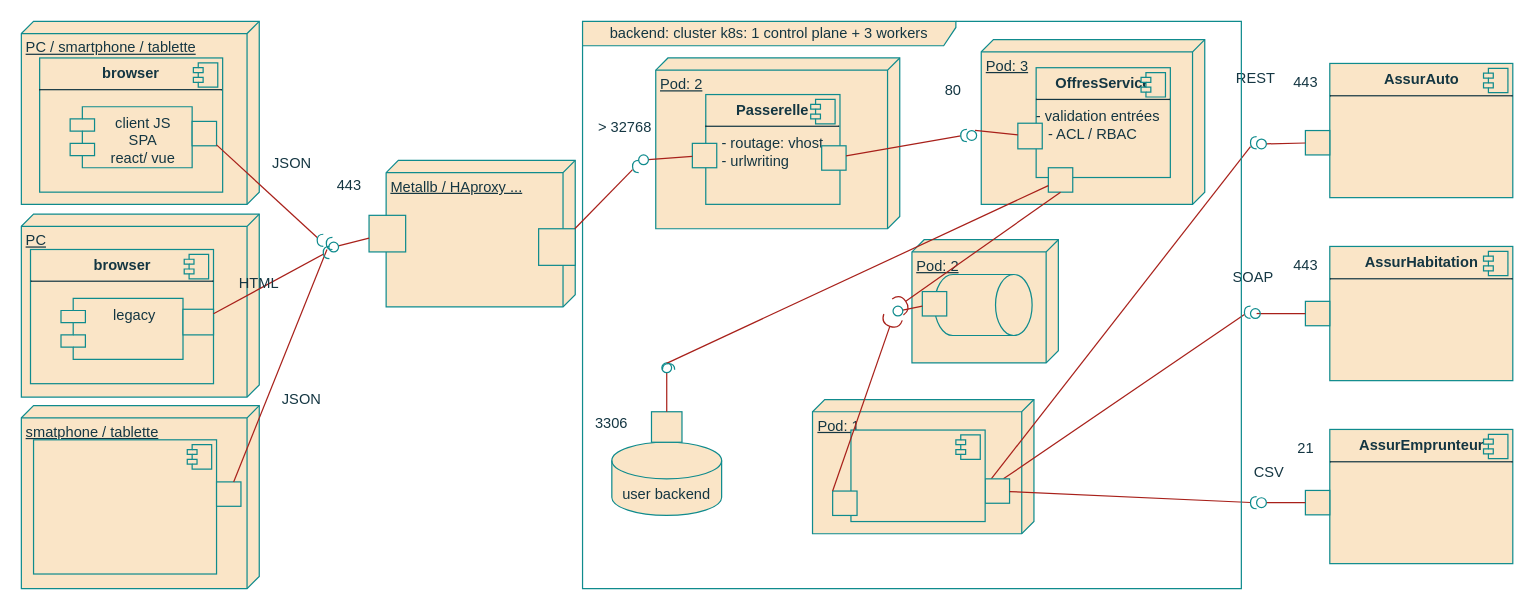
Image size: 1535x610. Some labels were removed from this diagram. The shapes that lost their labels are listed below. From the top down, each one's centre as x and y in pixels, then its label:
(x=917, y=475): ETL - cronjobs - multithreading
(x=124, y=506): Mobile App
